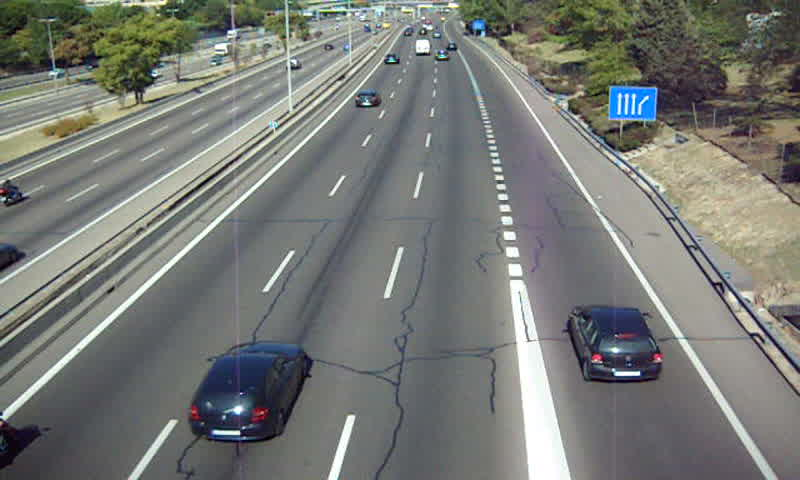car: (188, 340, 308, 441), (571, 306, 660, 381), (354, 91, 380, 109), (383, 52, 402, 64)
